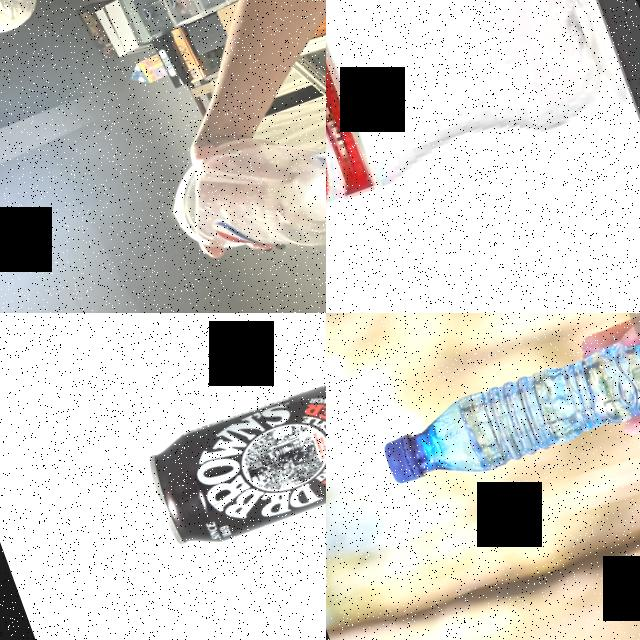bottle: (326, 0, 626, 286), (371, 313, 640, 505)
can: (135, 337, 326, 560)
cup: (157, 98, 326, 288)
